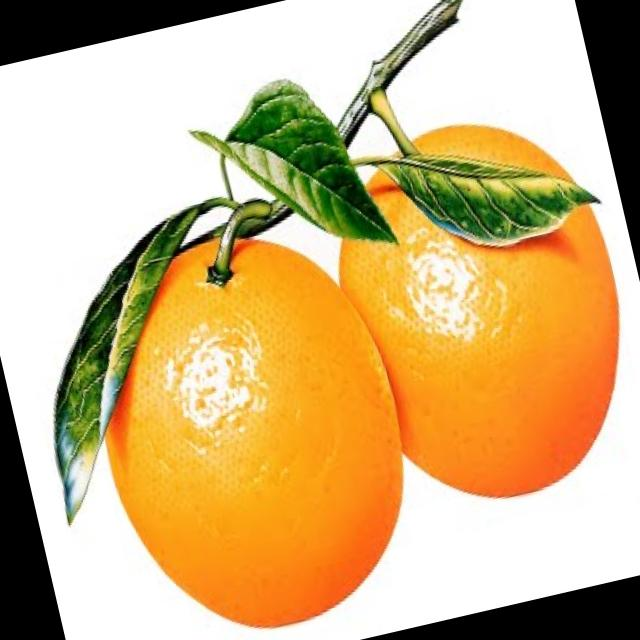orange: (60, 197, 463, 640), (304, 100, 640, 529)
